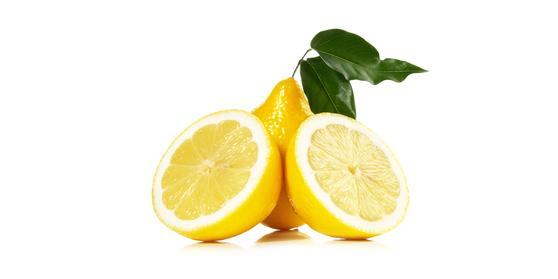lemon: (242, 81, 324, 235)
